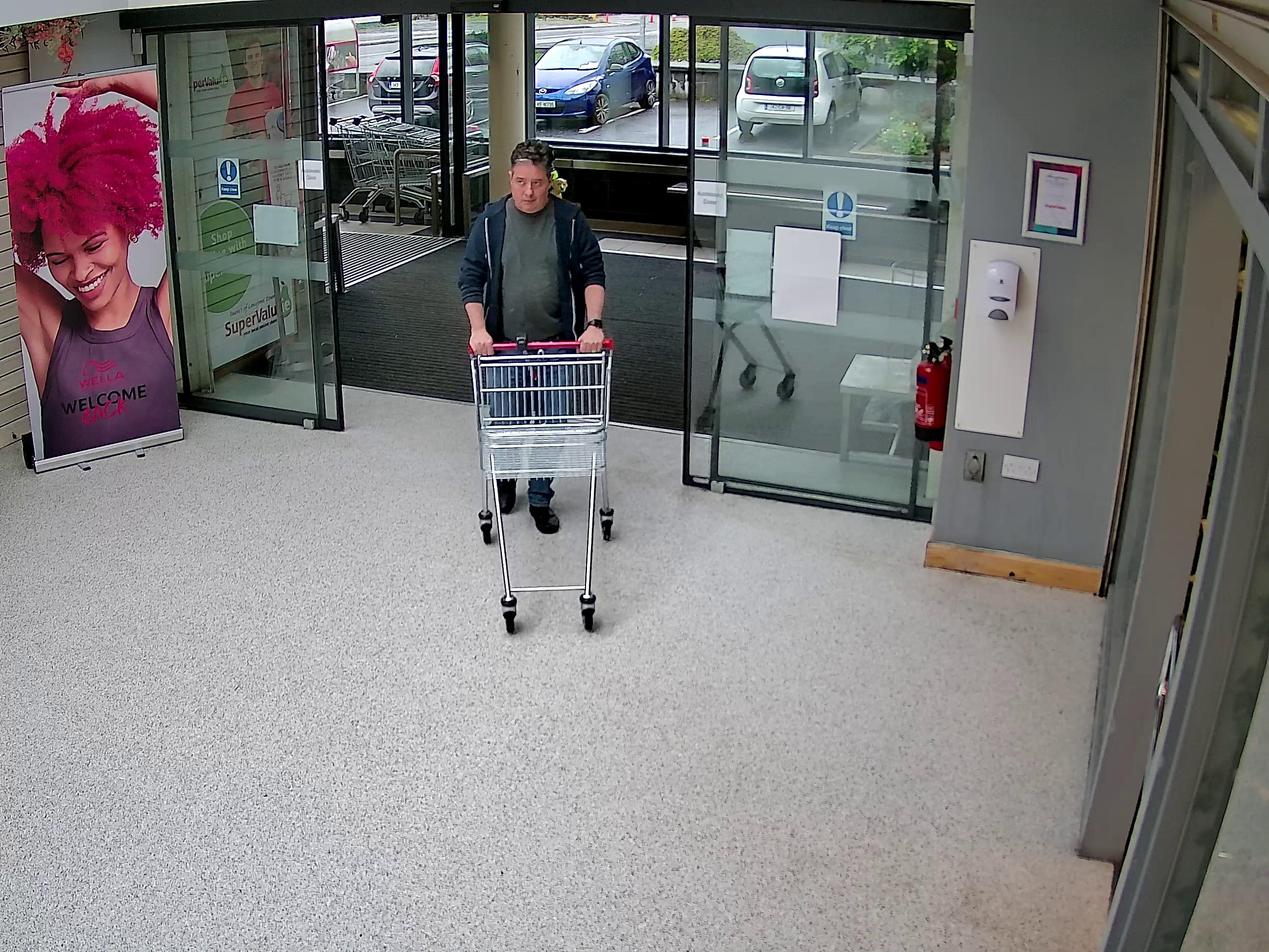empty-trolly: (467, 336, 617, 633)
person: (459, 140, 606, 532)
person-with-empty-basket-trolly: (459, 138, 616, 633)
